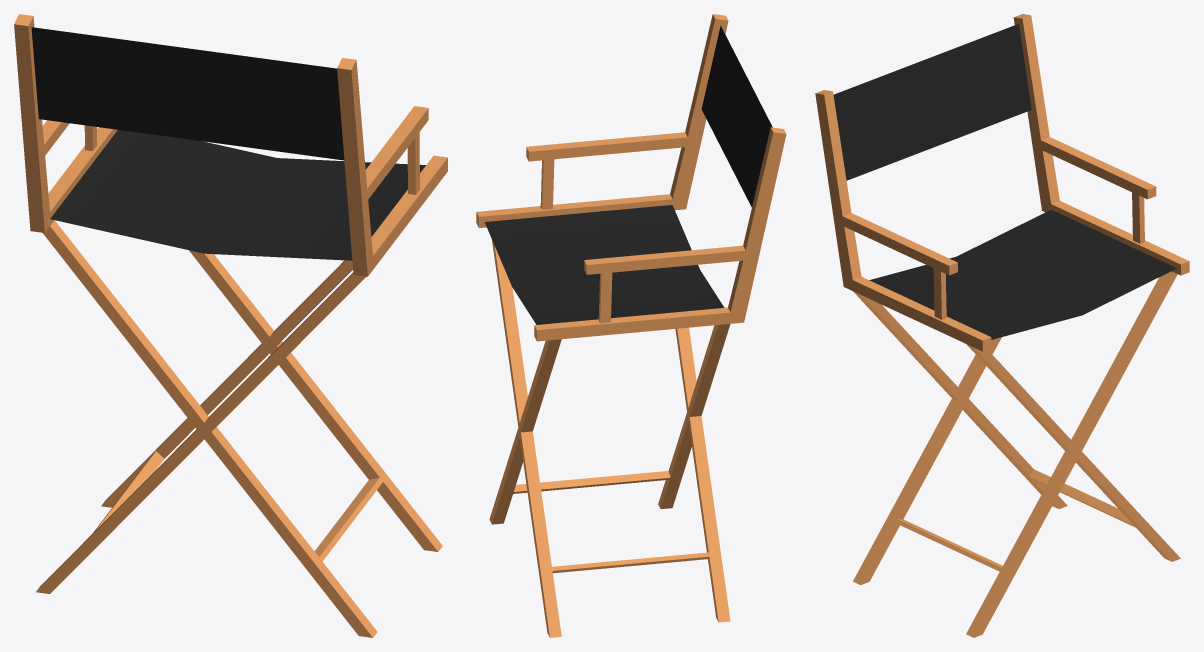
File: D-Chair.fbx
3 views of the same model, side by side, from view 1: azimuth 30°, elevation 25°; view 2: azimuth 150°, elevation 25°; view 3: azimuth 270°, elevation 25° (orthographic). The views are drawn at different scales.
Parts seen in each view (by area): view 1: Chair_Directors1, legs2, legs1, side1, side2; view 2: Chair_Directors1, side2, side1, legs1, legs2; view 3: Chair_Directors1, legs1, side1, side2, legs2.
Part boxes in pixels (x1,y1,x2,y2): Chair_Directors1: (31, 27, 425, 561); legs2: (36, 220, 377, 637); legs1: (101, 250, 442, 551); side1: (337, 58, 447, 276); side2: (14, 14, 117, 232); Chair_Directors1: (484, 26, 772, 573); side2: (534, 127, 786, 341); side1: (476, 14, 728, 227); legs1: (489, 240, 561, 637); legs2: (658, 324, 730, 622); Chair_Directors1: (833, 24, 1176, 571); legs1: (966, 271, 1180, 637); side1: (815, 90, 991, 351); side2: (1013, 14, 1189, 275); legs2: (853, 291, 1067, 584).
Size of the model in its own units: 0.5976 by 0.8383 by 0.601.
